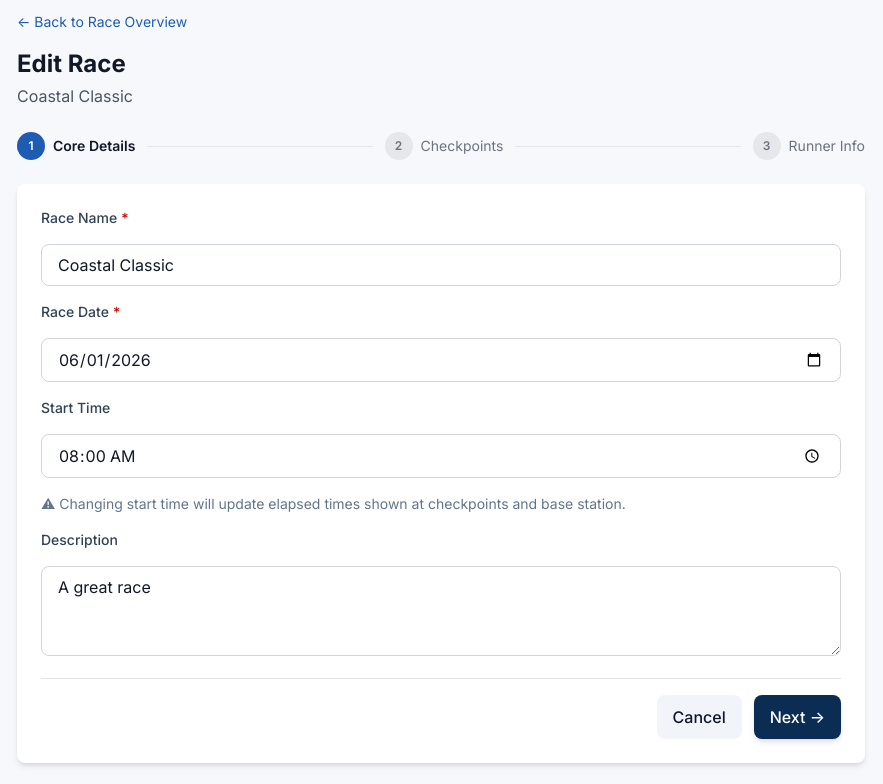
Test: RaceEditView › Back button on Checkpoints step returns to Core Details
Expected: the field showing "Coastal Classic" is shown, [41,244,841,286]
Step 1. Click the button "Next →" → {"x": 797, "y": 717}, box [754,695,841,739]
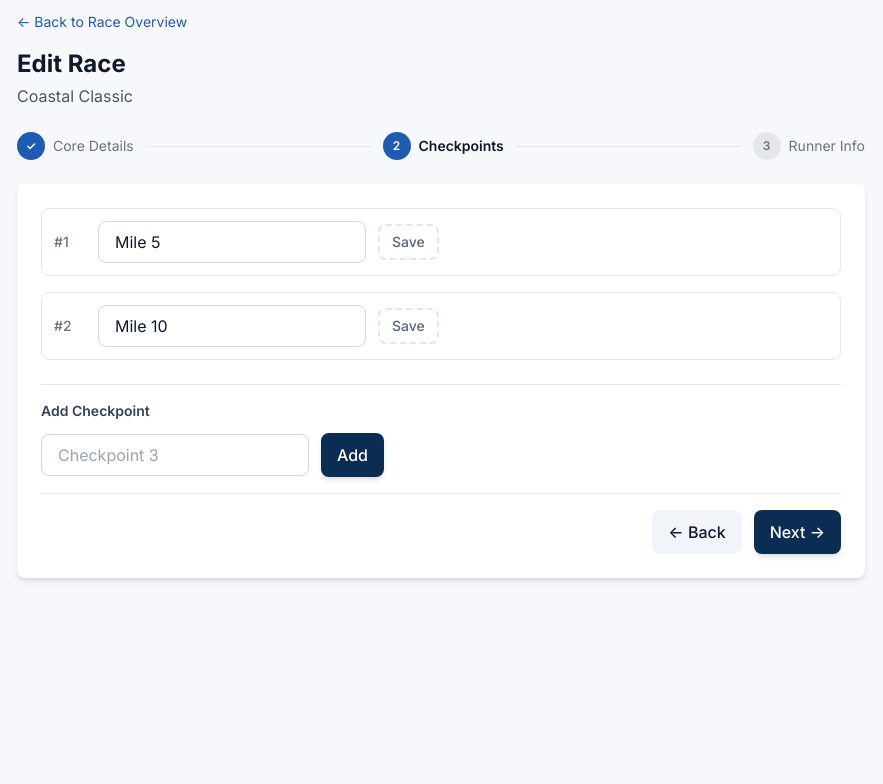
Now the field showing "Mile 5" is shown, box [98,221,366,263]
Second "back" button — first is "Back to Race Overview" nav
Step 2. Click the button "← Back" → {"x": 697, "y": 532}, box [652,510,742,554]
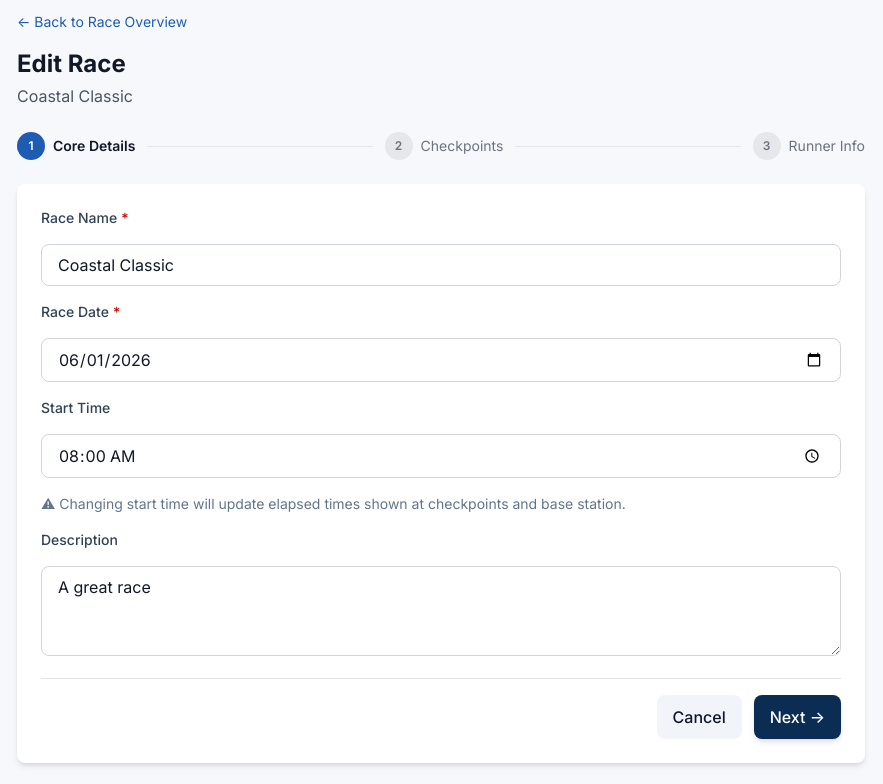
Now the field showing "Coastal Classic" is shown, box [41,244,841,286]
